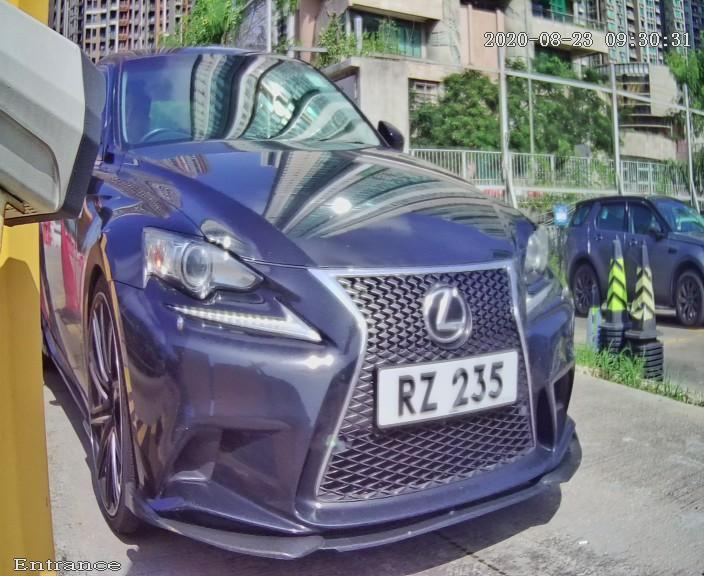Car: (29, 16, 607, 569)
License Plate: (330, 321, 563, 449)
